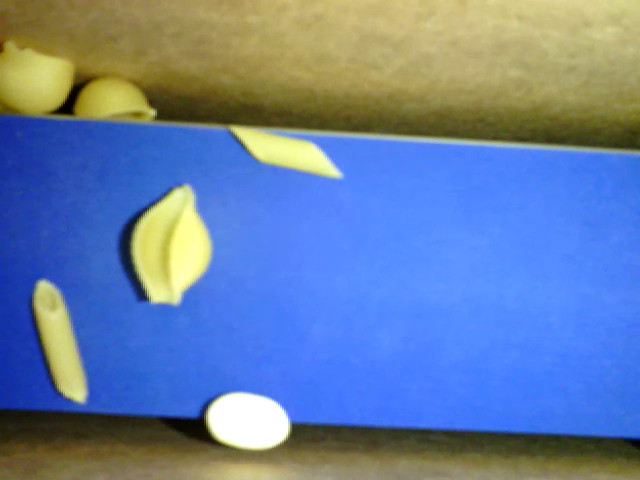penne: (225, 123, 345, 180), (33, 276, 83, 409)
shell: (122, 179, 207, 311), (1, 41, 75, 113), (72, 80, 157, 125)
